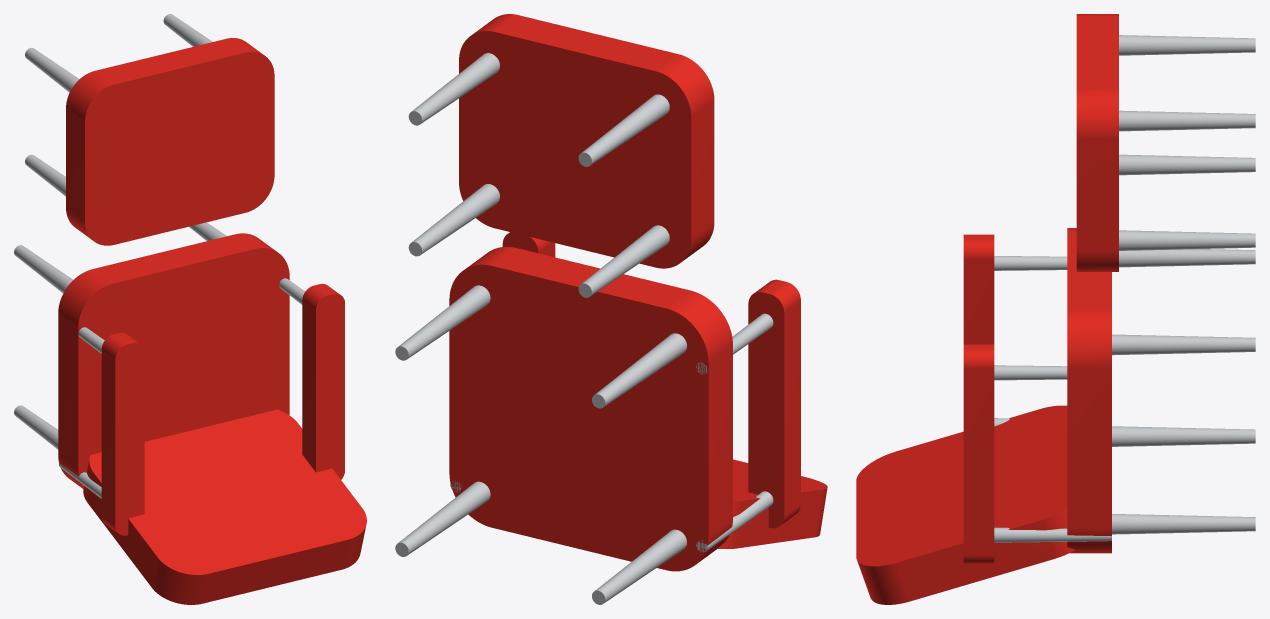
Rendered from lounge.glb.
3 views of the same model, side by side, from view 1: azimuth 30°, elevation 25°; view 2: azimuth 150°, elevation 25°; view 3: azimuth 270°, elevation 25° (orthographic). The views are drawn at different scales.
Visible parts, largest first — view 1: 座面, オットマン座, 背もたれ, 肘掛_左, 肘掛_右, 脚_前左, オ脚_前左, 脚_後左, オ脚_後左, オ脚_前右; view 2: 座面, オットマン座, 肘掛_左, 背もたれ, 脚_前右, 脚_後右, 脚_後左, 脚_前左, オ脚_後左, オ脚_前右, オ脚_前左, オ脚_後右 (+3 smaller); view 3: 背もたれ, 座面, オットマン座, 肘掛_右, 肘掛_左, 脚_前右, 脚_後右, 脚_後左, オ脚_後左, オ脚_前右, オ脚_後右, オ脚_前左 (+4 smaller).
Part boxes in pixels (left/top/right/bottom): 座面: left=58, top=233, right=289, bottom=488; オットマン座: left=66, top=38, right=274, bottom=245; 背もたれ: left=83, top=409, right=366, bottom=604; 肘掛_左: left=101, top=332, right=144, bottom=535; 肘掛_右: left=302, top=283, right=344, bottom=479; 脚_前左: left=14, top=245, right=72, bottom=293; オ脚_前左: left=25, top=47, right=79, bottom=92; 脚_後左: left=14, top=405, right=58, bottom=449; オ脚_後左: left=25, top=154, right=65, bottom=196; オ脚_前右: left=163, top=14, right=212, bottom=46; 座面: left=449, top=246, right=732, bottom=571; オットマン座: left=459, top=14, right=714, bottom=268; 肘掛_左: left=748, top=279, right=800, bottom=528; 背もたれ: left=718, top=459, right=827, bottom=548; 脚_前右: left=395, top=285, right=490, bottom=360; 脚_後右: left=395, top=481, right=490, bottom=556; 脚_後左: left=592, top=529, right=686, bottom=604; 脚_前左: left=592, top=333, right=686, bottom=408; オ脚_後左: left=578, top=225, right=669, bottom=297; オ脚_前右: left=408, top=53, right=499, bottom=125; オ脚_前左: left=578, top=94, right=669, bottom=166; オ脚_後右: left=408, top=184, right=499, bottom=256; 背もたれ: left=856, top=405, right=1075, bottom=604; 座面: left=1067, top=228, right=1111, bottom=553; オットマン座: left=1076, top=14, right=1118, bottom=271; 肘掛_右: left=963, top=344, right=994, bottom=563; 肘掛_左: left=963, top=234, right=994, bottom=344; 脚_前右: left=1112, top=334, right=1255, bottom=355; 脚_後右: left=1112, top=514, right=1255, bottom=534; 脚_後左: left=1112, top=426, right=1255, bottom=446; オ脚_後左: left=1119, top=154, right=1255, bottom=175; オ脚_前右: left=1119, top=110, right=1255, bottom=131; オ脚_後右: left=1119, top=230, right=1255, bottom=250; オ脚_前左: left=1119, top=35, right=1255, bottom=55.
Bounding box in the file's own units: 630 × 1181 × 848.
